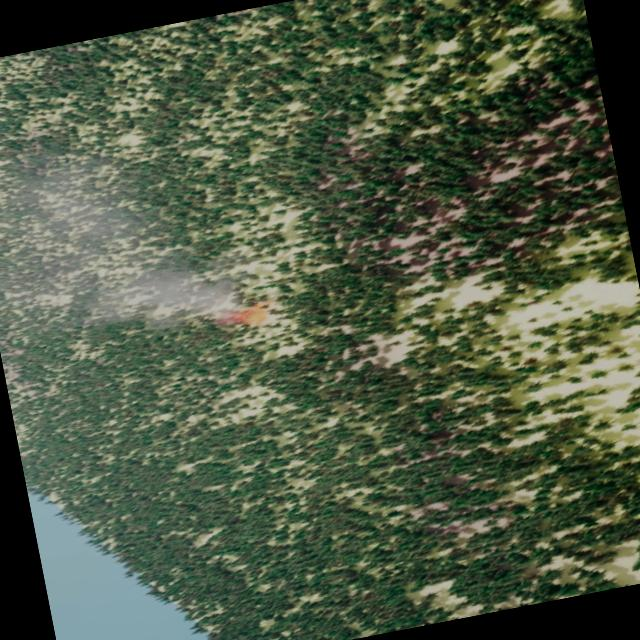fire: (232, 304, 268, 332)
smoke: (0, 132, 239, 353)
